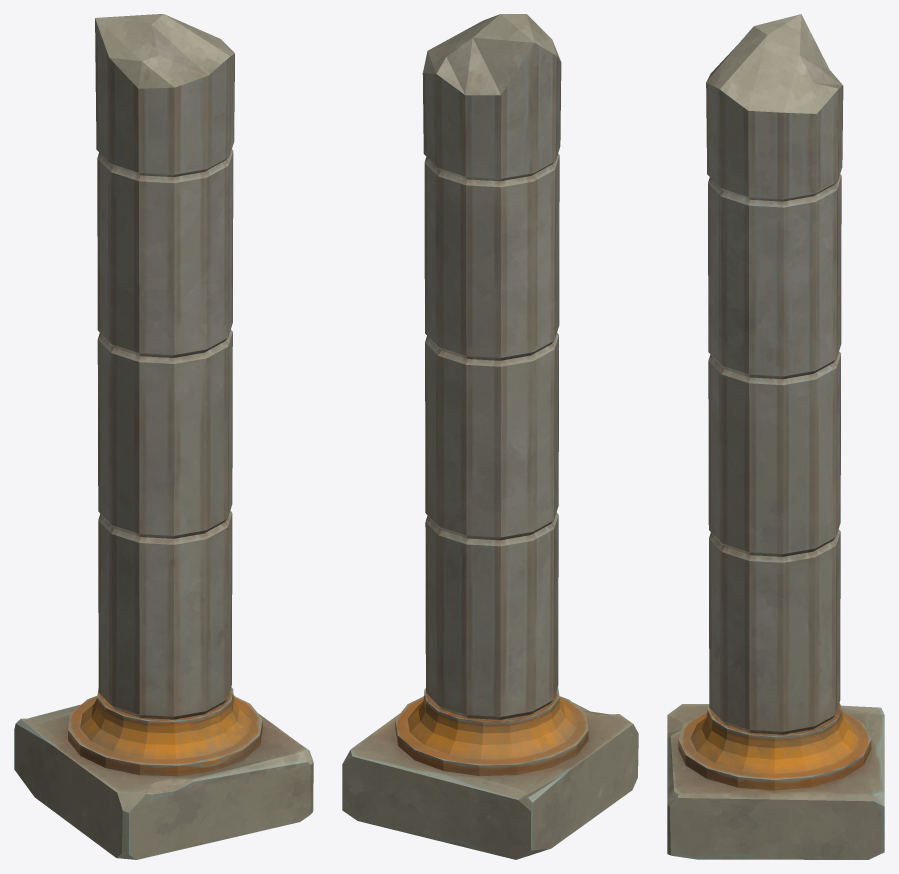
The model's file is Story_0-8_kaipian_pillar_a01_c.fbx.
3 renders of one model, left to right at view 1: azimuth 30°, elevation 25°; view 2: azimuth 150°, elevation 25°; view 3: azimuth 270°, elevation 25°, orthographic.
Visible parts, largest first — view 1: Story_0_8_kaipian_pillar_a01_c; view 2: Story_0_8_kaipian_pillar_a01_c; view 3: Story_0_8_kaipian_pillar_a01_c.
Part boxes in pixels (x1=…): Story_0_8_kaipian_pillar_a01_c: x1=14, y1=14, x2=313, y2=859; Story_0_8_kaipian_pillar_a01_c: x1=342, y1=14, x2=638, y2=859; Story_0_8_kaipian_pillar_a01_c: x1=667, y1=14, x2=884, y2=859.
Size of the model in its own units: 92.52 by 368 by 93.1.
